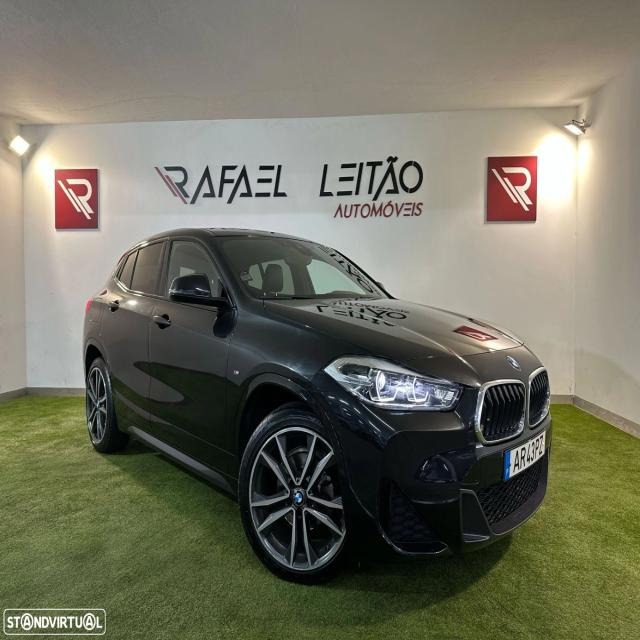portuguese-license-plates: (504, 429, 546, 481)
